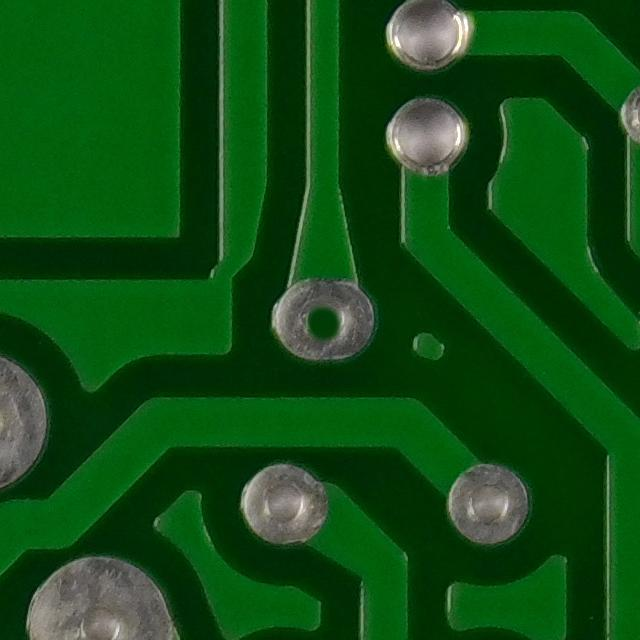missing_hole: (267, 276, 374, 364)
